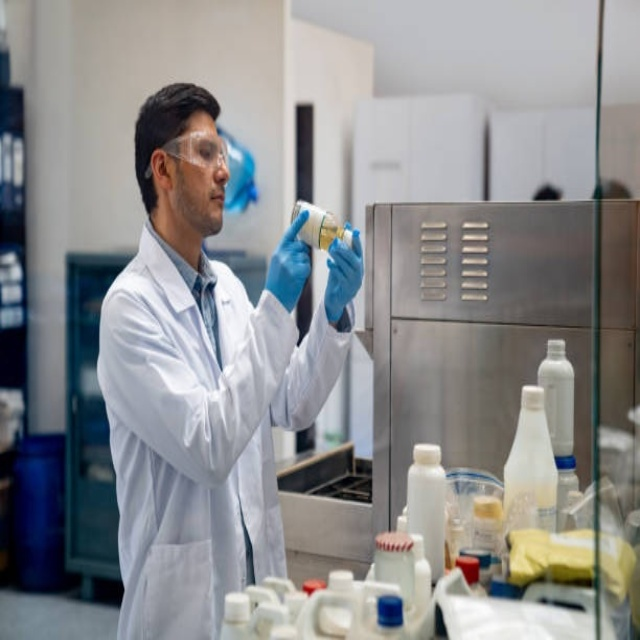Gafas: (150, 131, 230, 178)
Guantes: (263, 209, 314, 314), (323, 226, 365, 325)
Sin_mascara: (204, 184, 228, 231)
